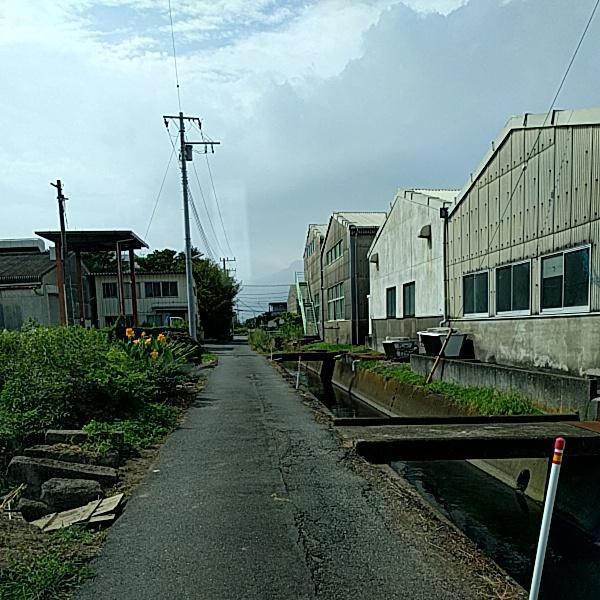D20: (257, 436, 352, 592)
